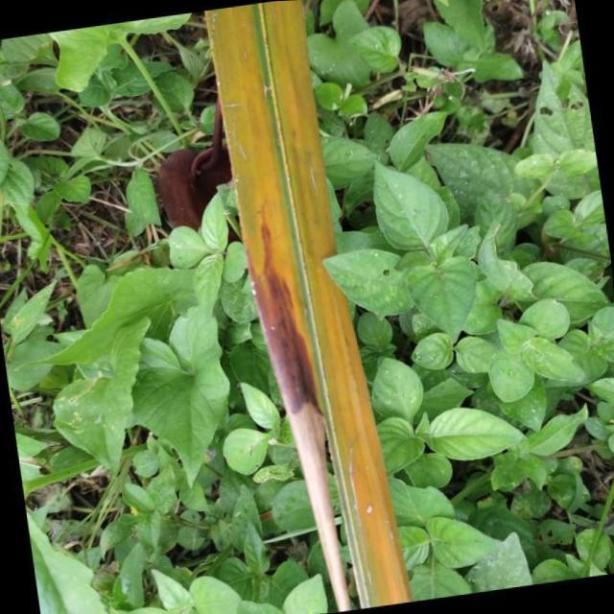Megnesium: (203, 0, 409, 614)
